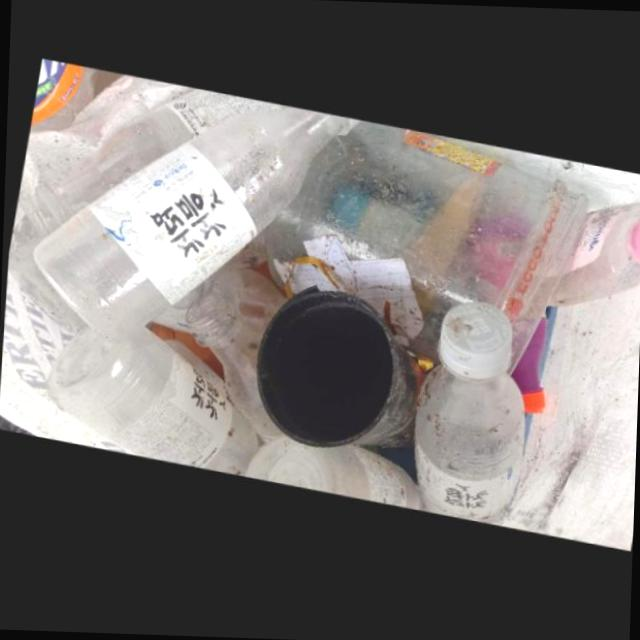chai_nhua: (545, 203, 640, 308)
chai_nhua_pet: (31, 111, 360, 350), (15, 94, 285, 243), (45, 334, 257, 481), (413, 304, 524, 527), (184, 300, 283, 448)
hop_nhua: (269, 124, 587, 374), (242, 440, 429, 516)
